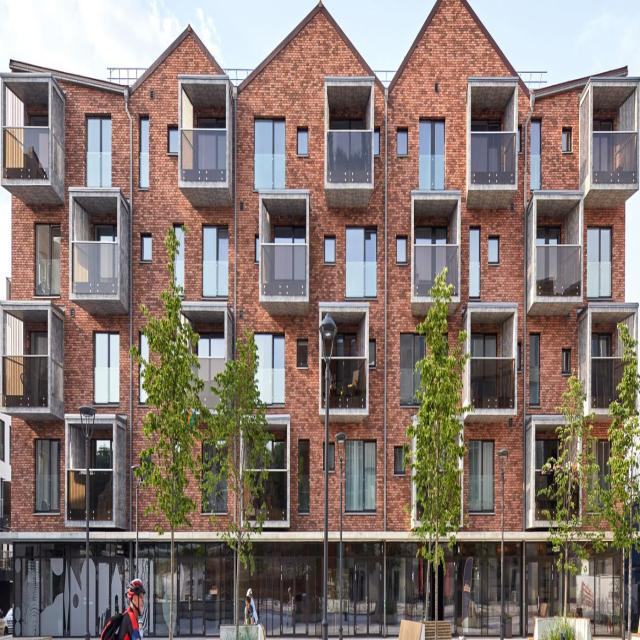Railing: (180, 128, 225, 182), (3, 125, 48, 178), (327, 130, 372, 183), (592, 132, 637, 185), (470, 130, 515, 182), (536, 244, 581, 296), (72, 241, 116, 292), (470, 354, 514, 405), (322, 355, 366, 406), (2, 354, 46, 405), (243, 464, 287, 515), (415, 244, 459, 294), (591, 358, 635, 408), (66, 467, 110, 517), (262, 244, 305, 295)
door: (12, 542, 620, 634)
plant: (133, 277, 273, 638), (535, 319, 639, 580), (408, 260, 471, 640)
wall: (0, 0, 638, 639)
windows: (344, 439, 376, 511), (252, 333, 284, 403), (253, 118, 284, 189), (345, 230, 376, 296), (34, 220, 60, 296), (198, 335, 223, 413), (202, 224, 228, 298), (468, 438, 494, 512), (35, 439, 60, 511), (399, 331, 424, 403), (419, 120, 445, 188), (86, 116, 111, 185), (204, 440, 228, 510), (586, 227, 610, 297), (95, 333, 118, 402), (90, 432, 113, 468), (530, 120, 541, 188), (529, 333, 539, 407), (173, 227, 184, 294), (298, 440, 308, 512), (470, 228, 480, 298), (416, 224, 448, 245), (274, 223, 306, 244), (472, 332, 498, 356), (139, 118, 148, 186), (537, 226, 562, 246), (140, 334, 147, 402), (592, 334, 613, 356), (336, 331, 356, 353), (333, 119, 364, 133), (94, 224, 118, 242), (30, 335, 48, 358), (394, 445, 405, 472), (198, 117, 225, 128), (141, 234, 152, 260), (396, 128, 407, 154), (488, 238, 499, 262), (168, 127, 178, 153), (297, 340, 307, 366), (297, 128, 307, 154), (324, 237, 334, 263), (324, 443, 334, 469), (396, 240, 406, 262), (561, 349, 570, 372), (369, 341, 377, 366), (30, 115, 48, 126), (562, 128, 570, 150), (374, 130, 379, 155), (516, 344, 520, 368), (256, 236, 258, 261), (518, 128, 520, 152)
